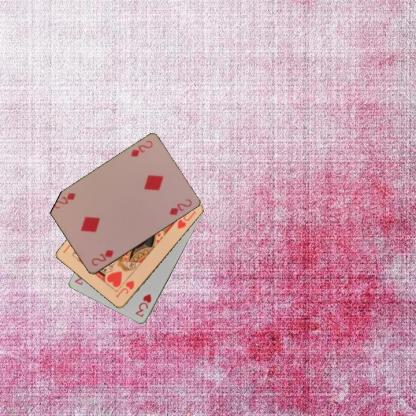2d: (89, 247, 115, 268), (128, 138, 154, 158)
3h: (133, 291, 152, 318)
Jh: (113, 278, 135, 299)
